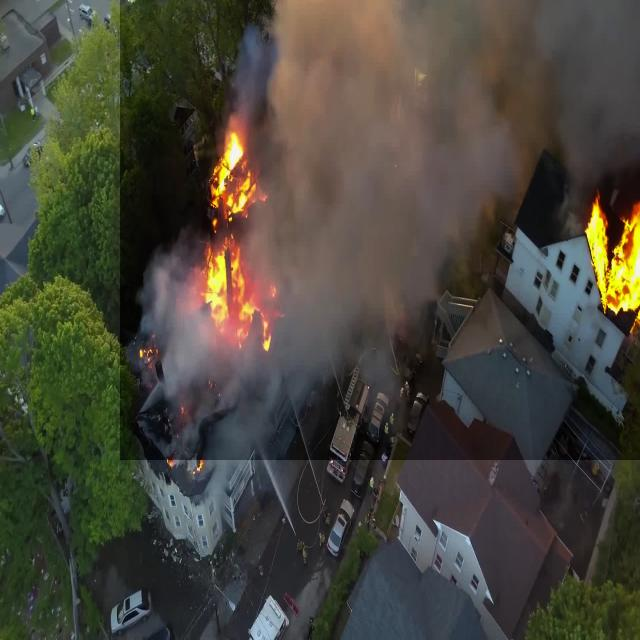Fire: (175, 112, 327, 366), (130, 320, 226, 494), (575, 164, 640, 313)
Smoke: (120, 0, 640, 460)
